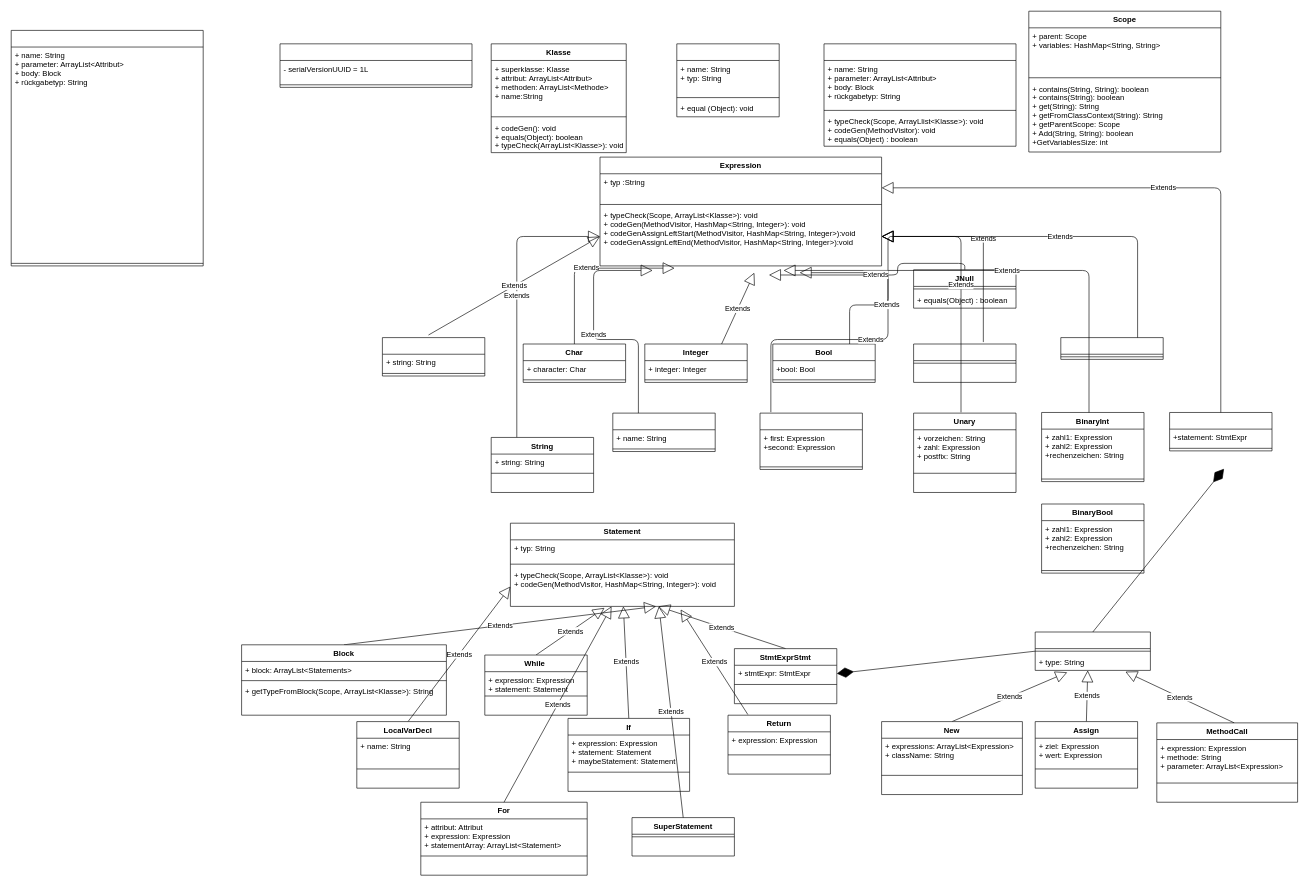
The diagram is 1309 pixels wide and 888 high, and some of its shapes have lost their labels. Each missing label, with the box of its shape:
Attribut: (676, 43, 779, 117)
CompString: (382, 337, 485, 376)
InstVar: (759, 412, 862, 469)
LocalOrFieldVar: (612, 412, 715, 452)
Methode: (823, 43, 1016, 146)
StmtExpr: (1035, 631, 1150, 670)
StmtExprExpr: (1169, 412, 1272, 451)
Super: (1060, 337, 1163, 359)
This: (913, 343, 1016, 382)
TypeException: (279, 43, 472, 87)
Types: (11, 30, 203, 266)
